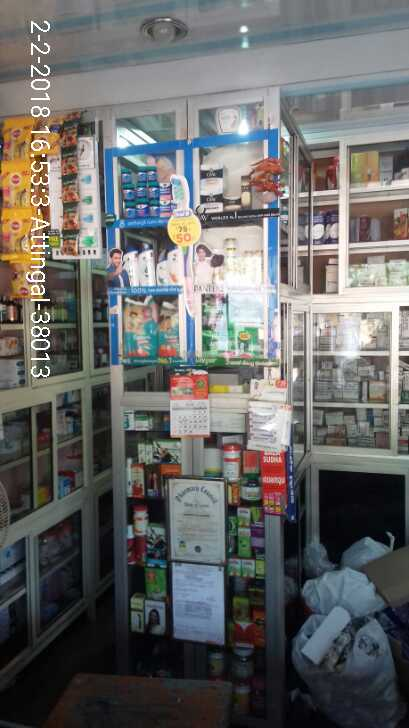vicks: (118, 168, 176, 225)
